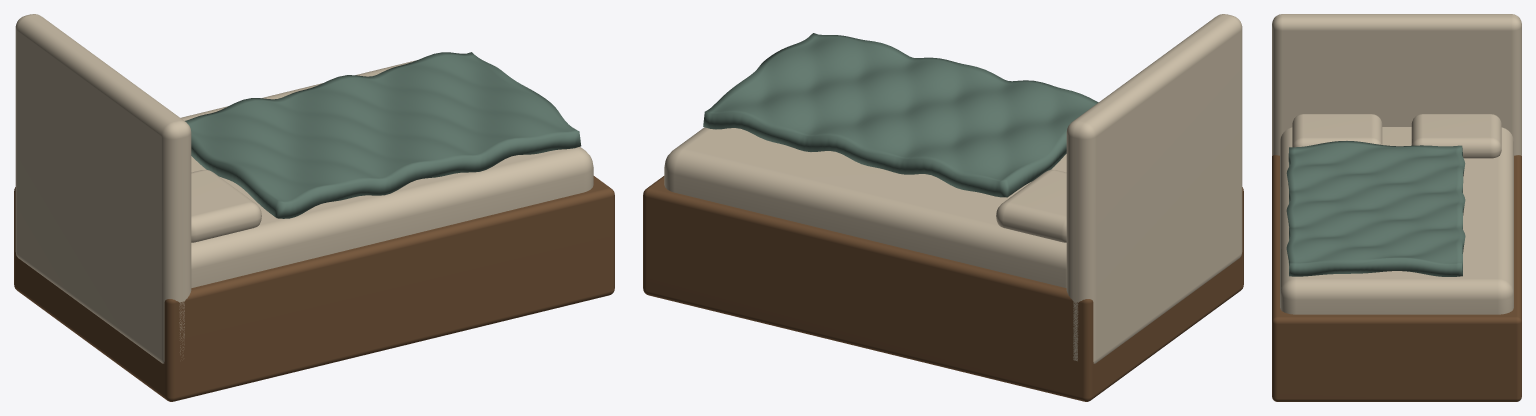
Rendered from bed.glb.
The picture shows the model from 3 angles, left to right: view 1: azimuth 30°, elevation 25°; view 2: azimuth 150°, elevation 25°; view 3: azimuth 270°, elevation 25°; orthographic projection. The views are drawn at different scales.
Parts seen in each view (by area): view 1: Timber bed frame, Upholstered headboard, Draped duvet, Mattress, Sleeping pillow.001; view 2: Timber bed frame, Upholstered headboard, Draped duvet, Mattress, Sleeping pillow; view 3: Upholstered headboard, Timber bed frame, Draped duvet, Mattress, Sleeping pillow, Sleeping pillow.001.
Boxes of the visible parts, x1,y1,x2,y2 form: Timber bed frame: (14,176,614,401); Upholstered headboard: (15,14,191,363); Draped duvet: (185,52,581,218); Mattress: (181,60,593,287); Sleeping pillow.001: (191,169,261,242); Timber bed frame: (643,176,1243,401); Upholstered headboard: (1066,14,1242,363); Draped duvet: (703,33,1098,197); Mattress: (664,127,1066,287); Sleeping pillow: (996,169,1066,242); Upholstered headboard: (1272,14,1521,155); Timber bed frame: (1272,155,1521,401); Draped duvet: (1286,141,1465,276); Mattress: (1280,127,1513,314); Sleeping pillow: (1411,114,1501,158); Sleeping pillow.001: (1292,114,1382,147).
Bounding box in the file's own units: 2.56 × 1.5 × 1.55.
